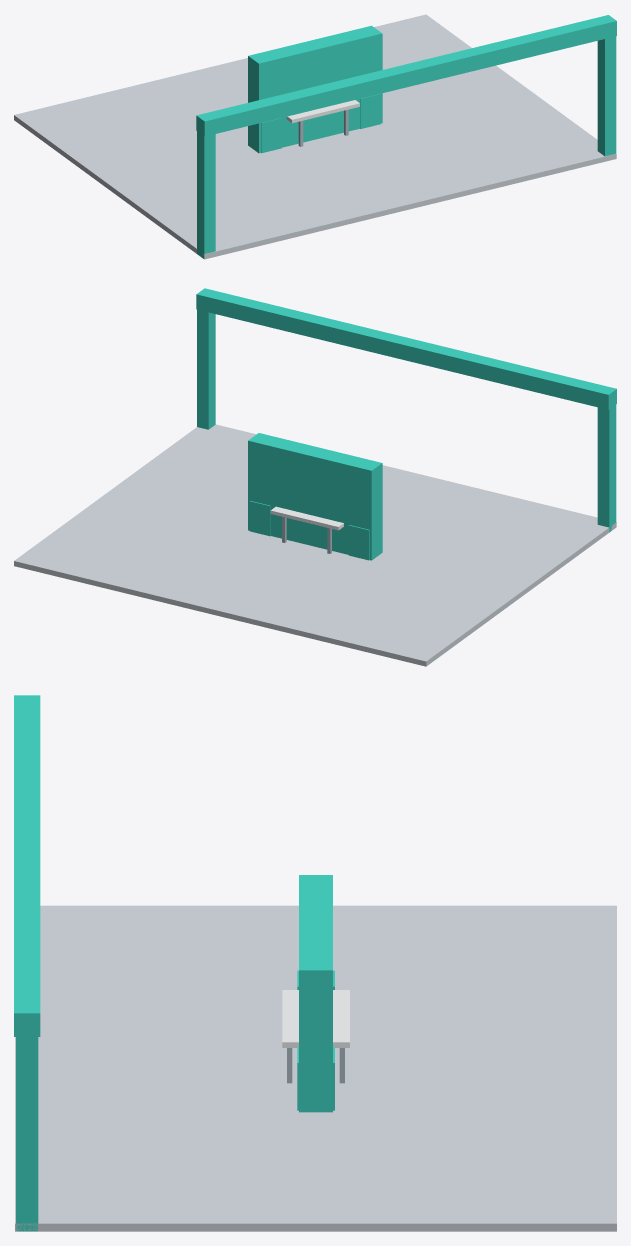
The picture shows the model from 3 angles, top to bottom: view 1: azimuth 30°, elevation 25°; view 2: azimuth 150°, elevation 25°; view 3: azimuth 270°, elevation 25°; orthographic projection. The views are drawn at different scales.
Parts seen in each view (by area): view 1: Exhibition Booth Concept; view 2: Exhibition Booth Concept; view 3: Exhibition Booth Concept.
Part boxes in pixels (<box>): Exhibition Booth Concept: <box>14,14,616,259</box>; Exhibition Booth Concept: <box>14,288,616,666</box>; Exhibition Booth Concept: <box>14,695,616,1231</box>.
Size of the model in its own units: 10 by 3.2 by 8.01.
